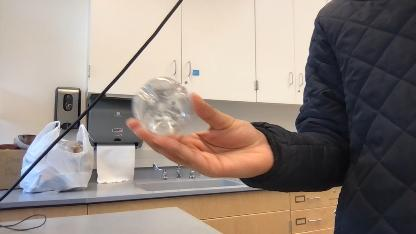Plastic Bottle: (131, 78, 199, 138)
